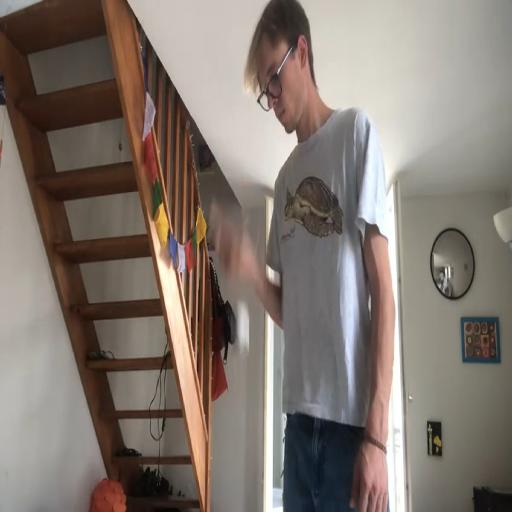kendama_ball: (235, 300, 250, 358)
